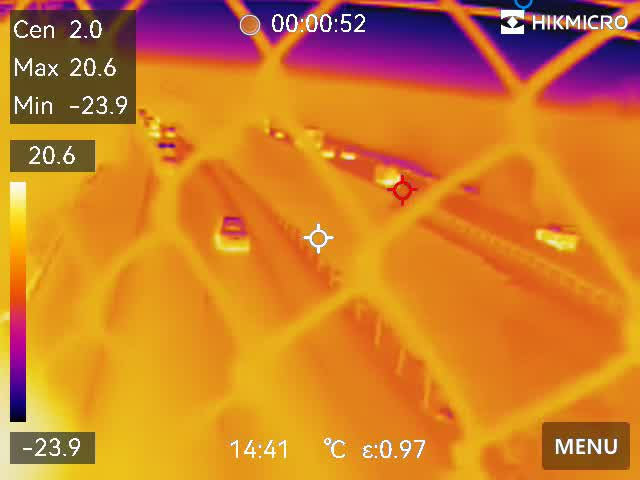smallCar: (209, 210, 257, 257)
vehicle: (534, 219, 585, 250), (370, 163, 411, 187), (338, 148, 359, 163)
